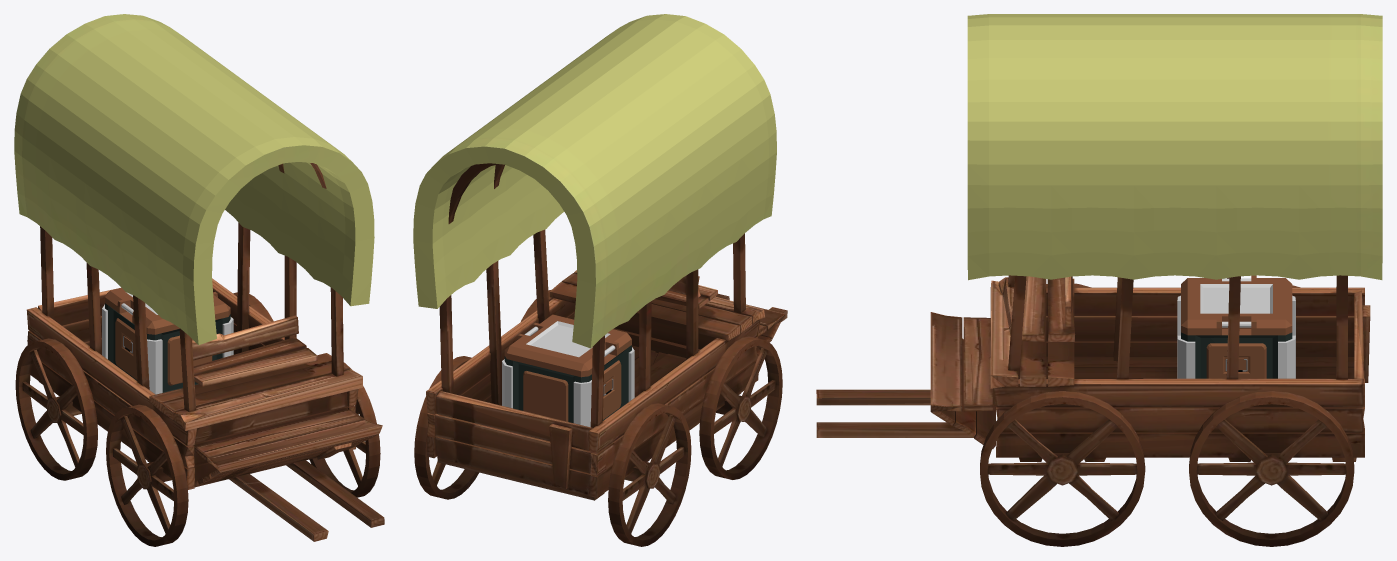
The picture shows the model from 3 angles, left to right: view 1: azimuth 30°, elevation 25°; view 2: azimuth 150°, elevation 25°; view 3: azimuth 270°, elevation 25°; orthographic projection. The views are drawn at different scales.
Parts seen in each view (by area): view 1: slot_canvas_top, slot_anchor_frame, slot_front_wheels, slot_bed_barrel; view 2: slot_canvas_top, slot_anchor_frame, slot_bed_barrel, slot_front_wheels; view 3: slot_canvas_top, slot_anchor_frame, slot_bed_barrel, slot_front_wheels.
Boxes of the visible parts, x1,y1,x2,y2 form: slot_canvas_top: (14,14,374,344); slot_anchor_frame: (15,163,384,541); slot_front_wheels: (106,362,380,546); slot_bed_barrel: (102,287,233,394); slot_canvas_top: (413,14,776,348); slot_anchor_frame: (414,163,787,546); slot_bed_barrel: (502,314,634,427); slot_front_wheels: (521,290,782,479); slot_canvas_top: (967,14,1382,280); slot_anchor_frame: (816,275,1370,546); slot_bed_barrel: (1177,275,1295,378); slot_front_wheels: (980,283,1145,546).
Size of the model in its own units: 0.9611 by 1.81 by 2.01.
3 materials, 3 textured.
